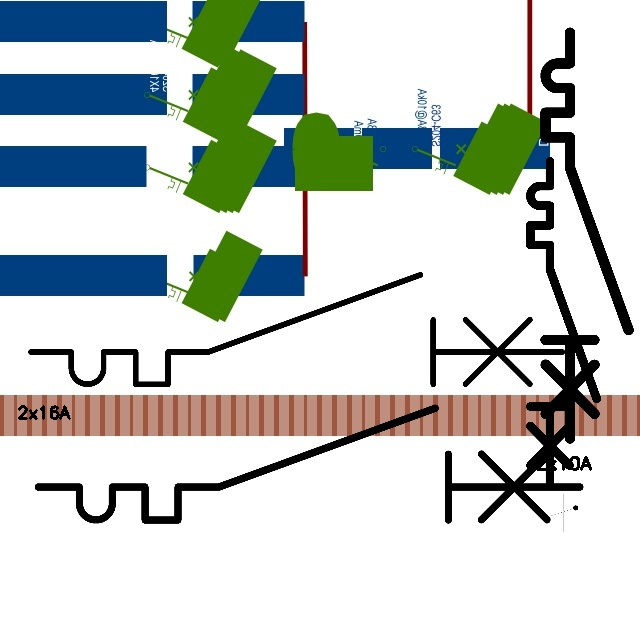interruptor_termomagnetico: (24, 394, 594, 534), (17, 261, 576, 398), (535, 22, 639, 449), (522, 153, 605, 493)
